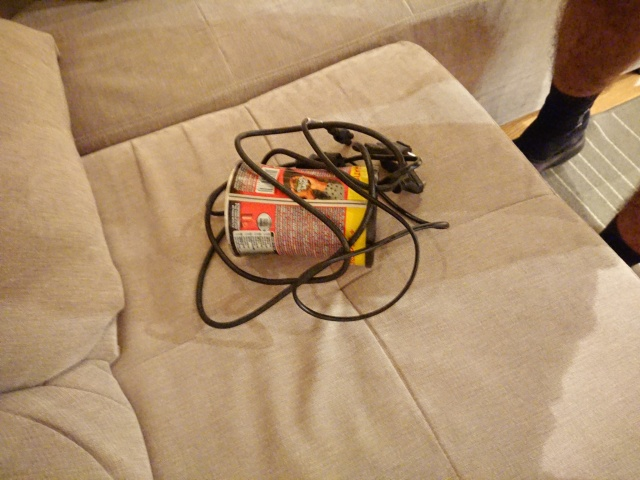Nescafe Classic 225g: (222, 156, 382, 271)
